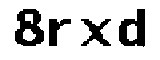8: (13, 6, 45, 49)
d: (116, 7, 150, 52)
r: (47, 13, 75, 53)
x: (78, 14, 116, 52)
